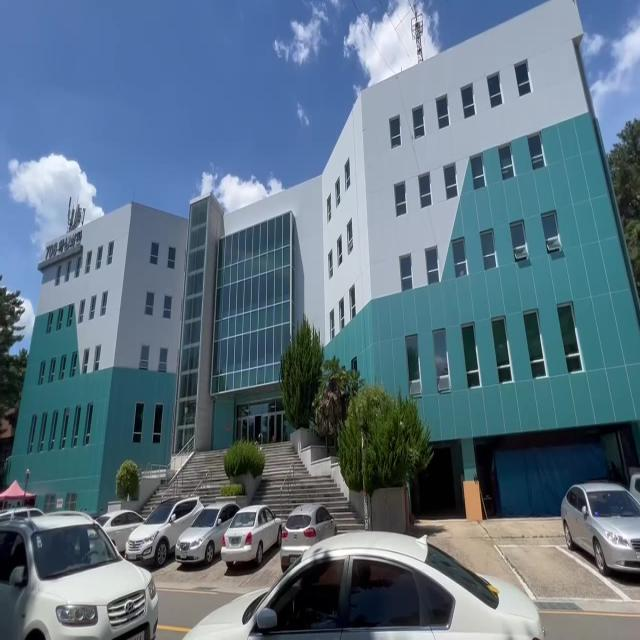building: (54, 39, 640, 430)
